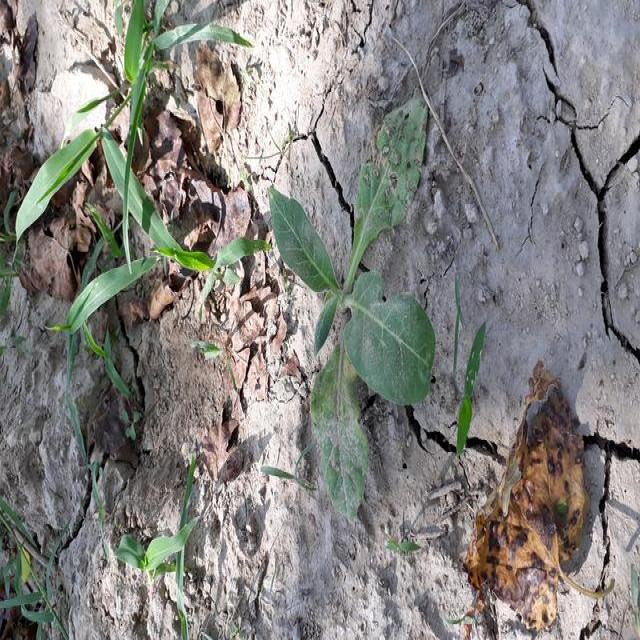crop: (266, 92, 440, 518), (14, 0, 219, 333)
